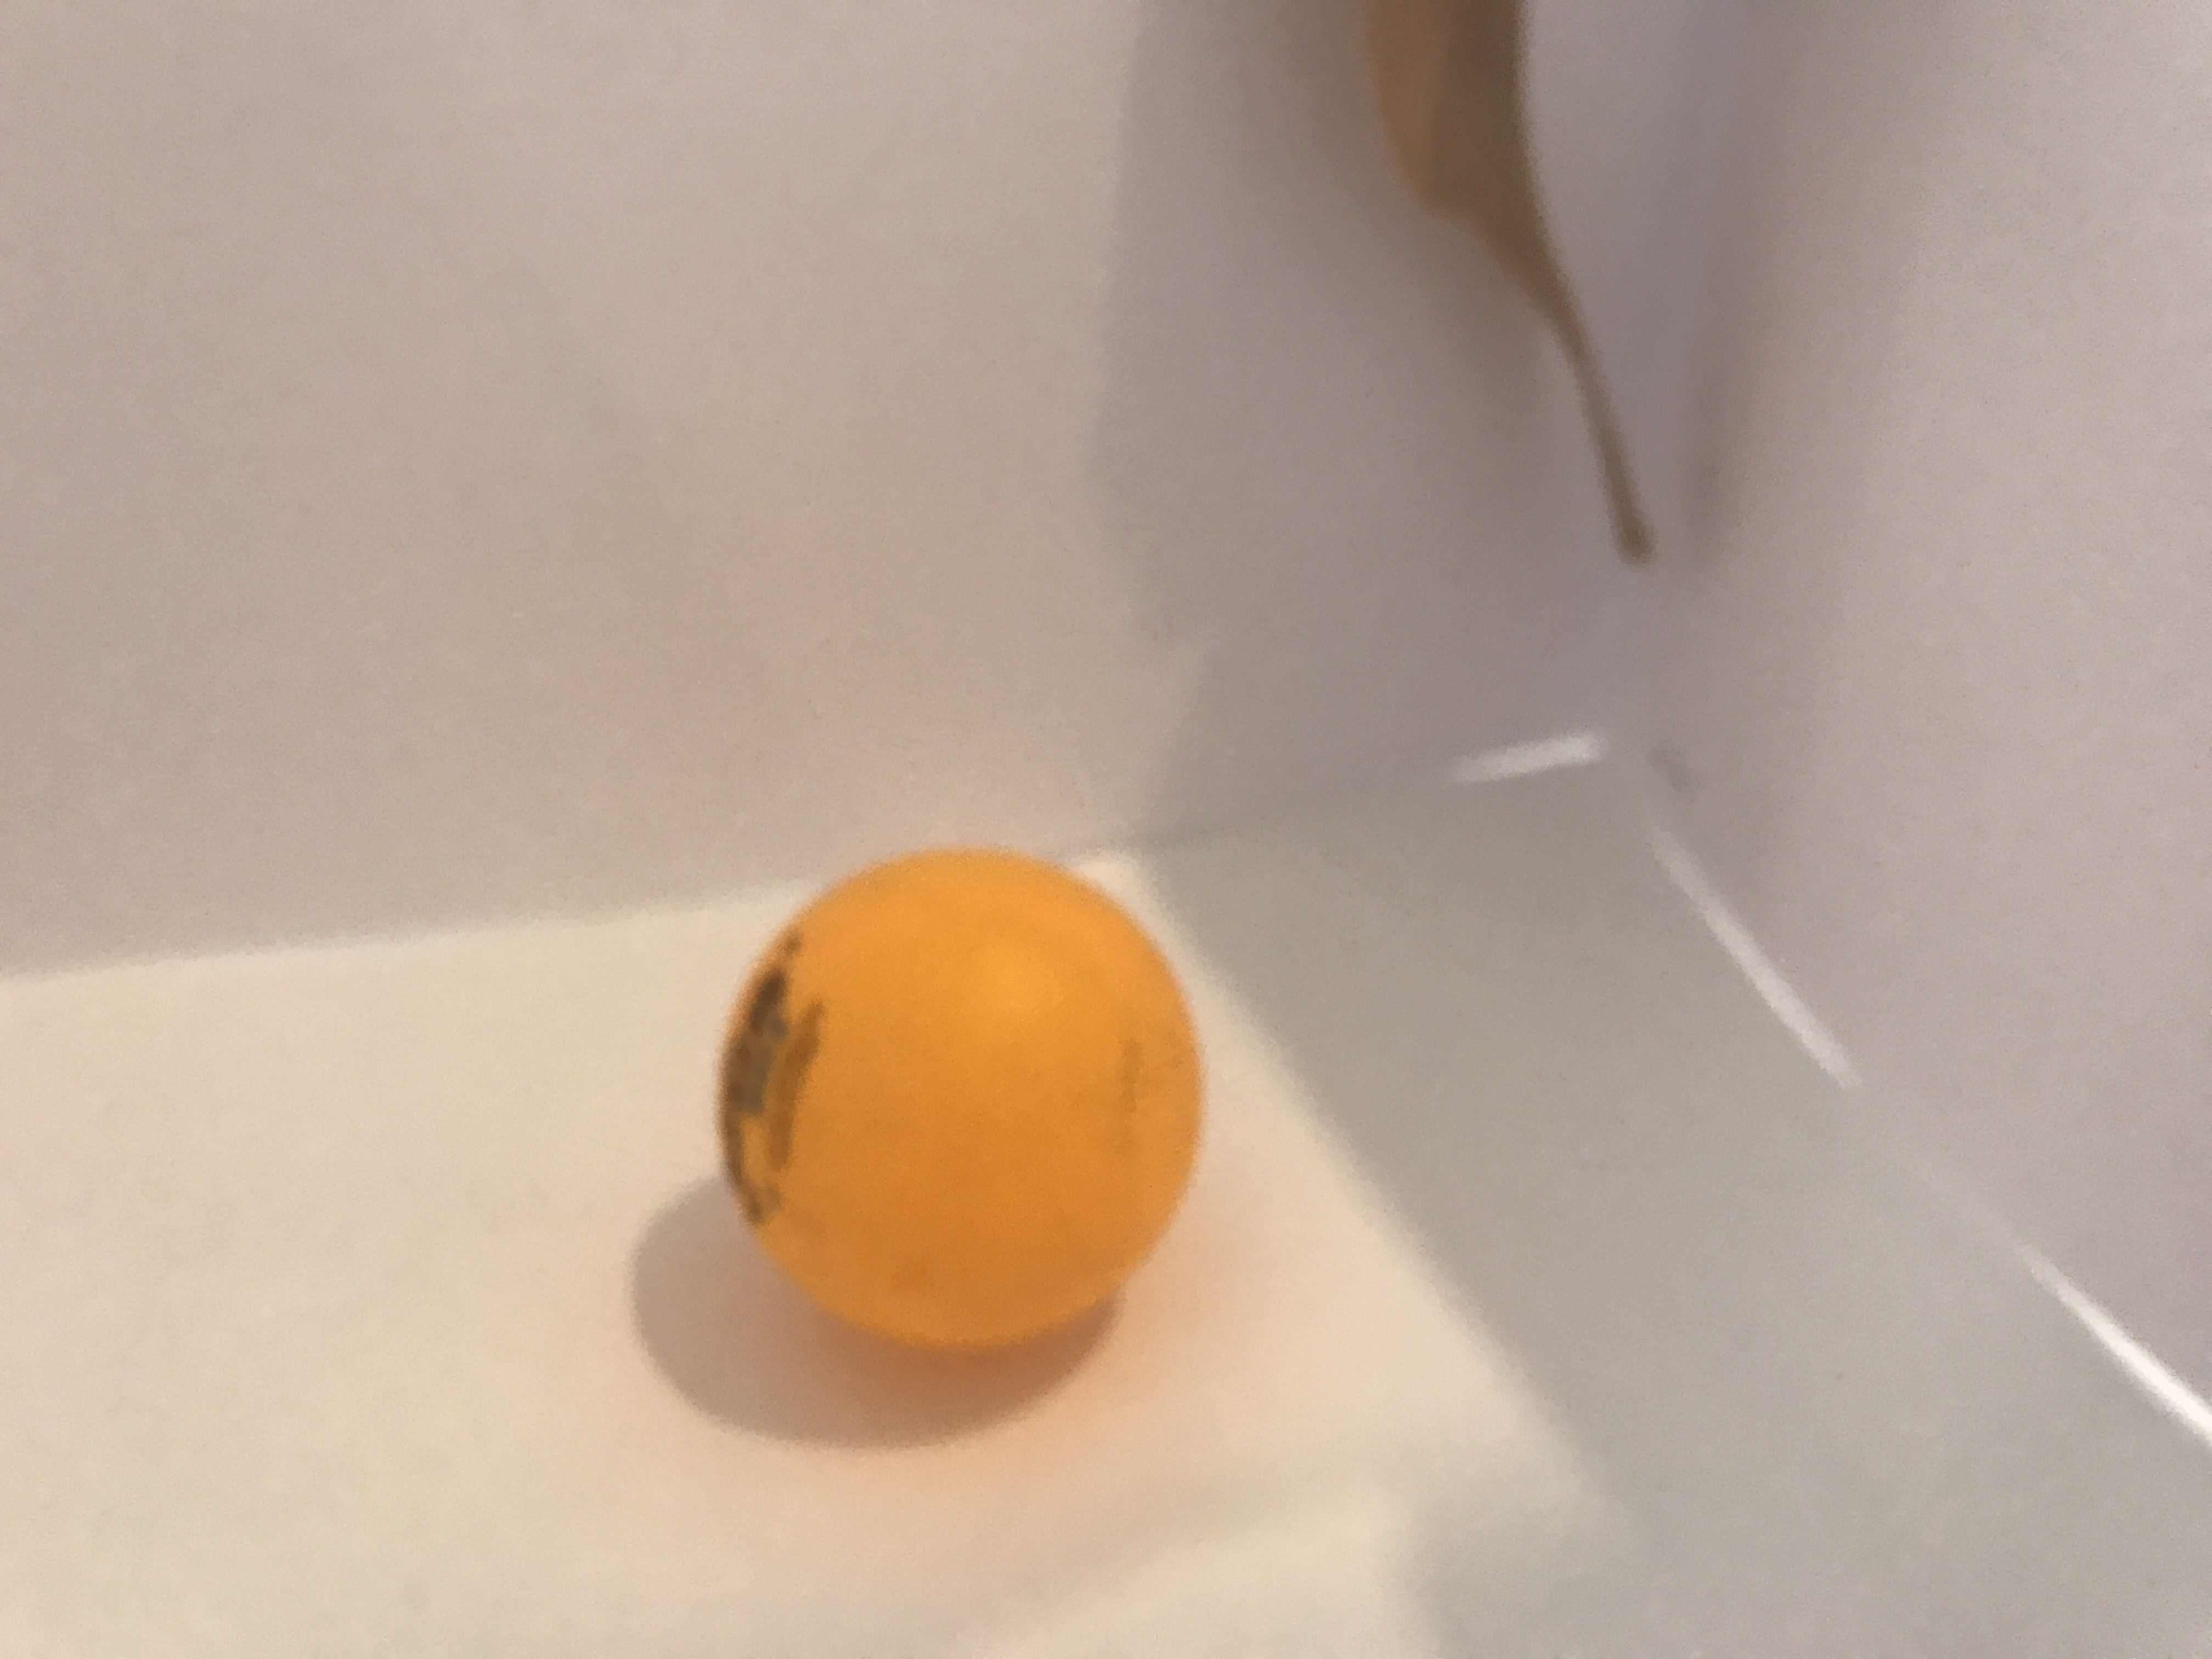pp: (698, 836, 1205, 1352)
